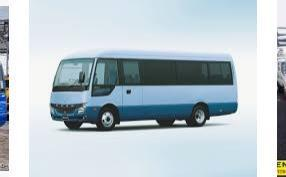bus: (51, 48, 238, 130)
